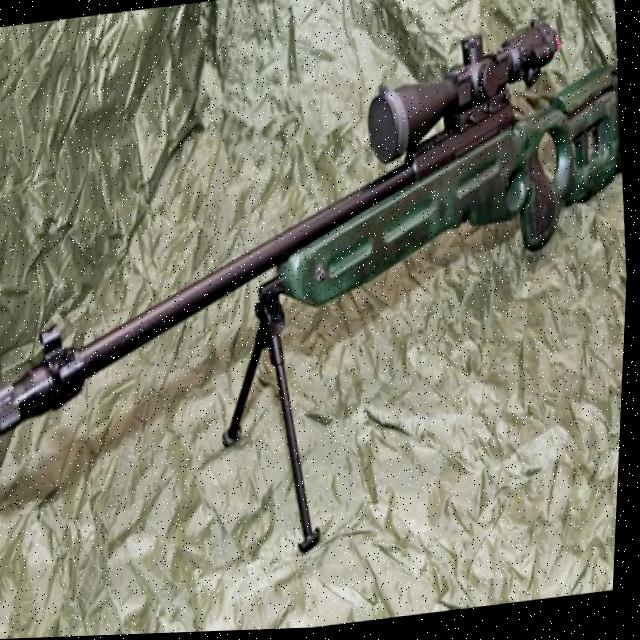firearm: (0, 11, 639, 595)
